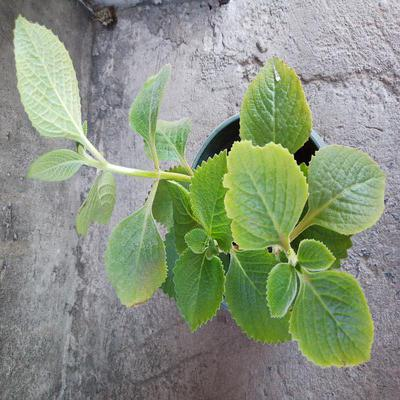Oregano: (119, 84, 388, 363)
